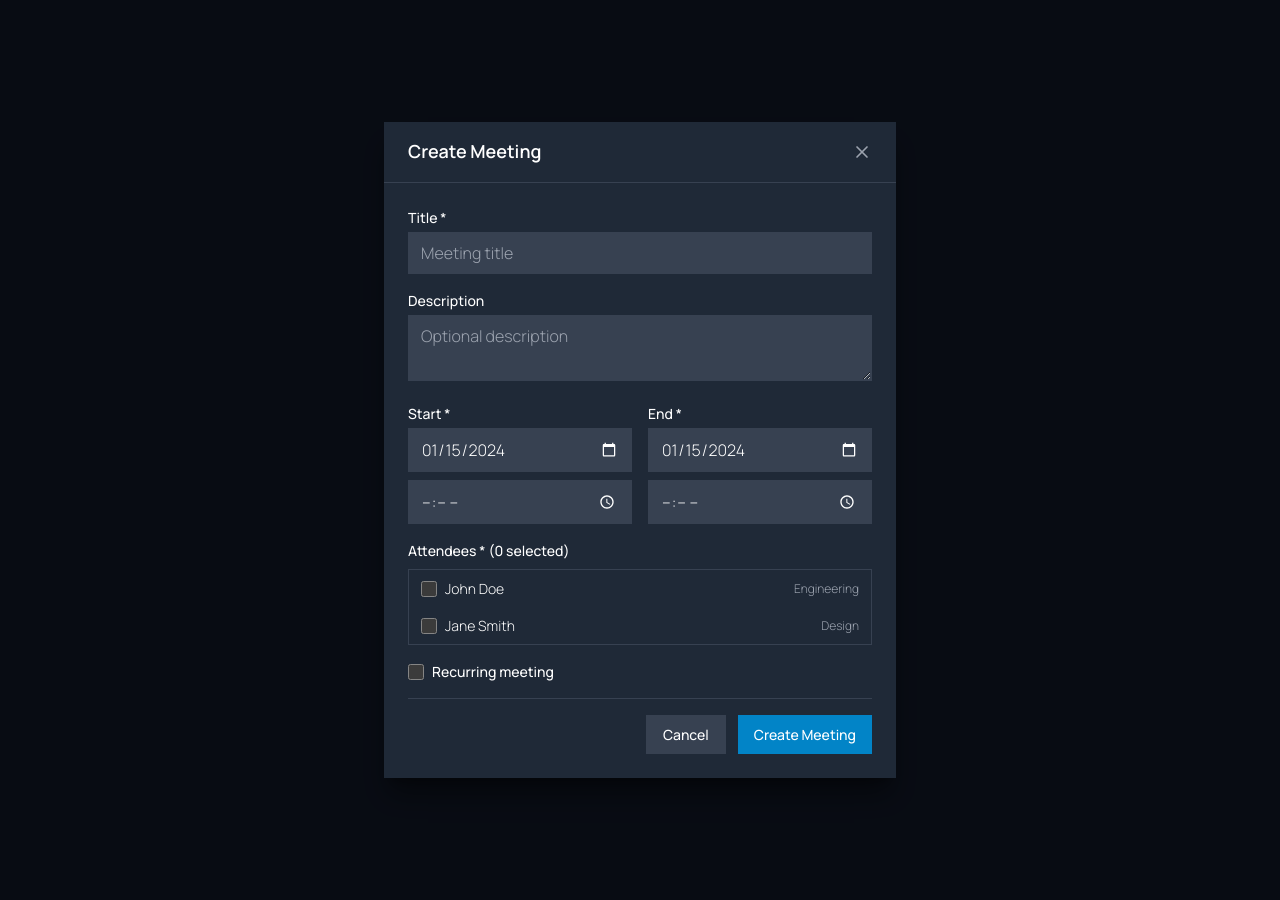
Test: CreateMeetingModal › attendee selection › allows selecting attendees via checkboxes
// Find the checkbox by its associated label text
Click the text "John Doe". click: (460, 588)
box: [421,579,859,598]
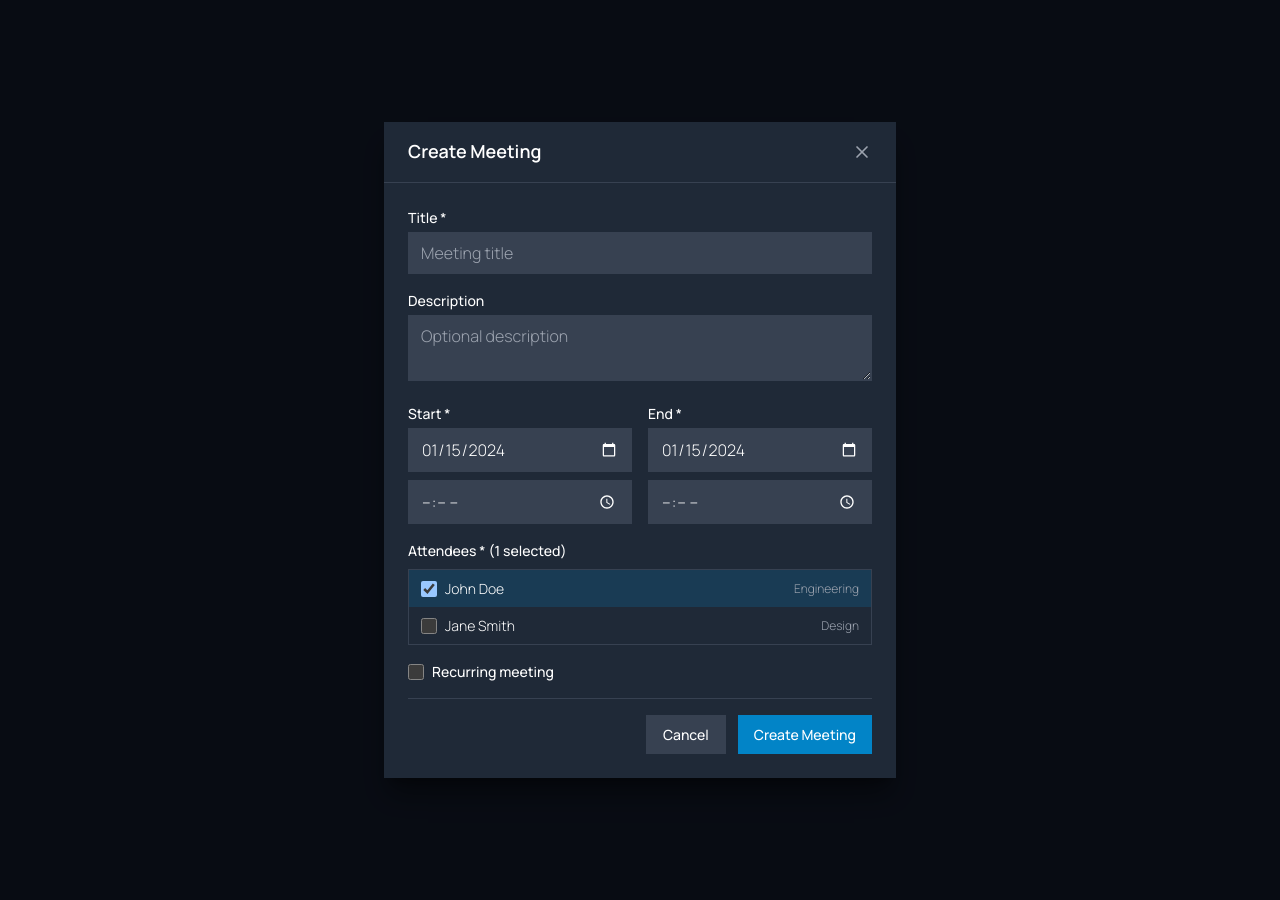
Expected: the text "Attendees * (1 selected)" is shown, [408,541,566,560]
